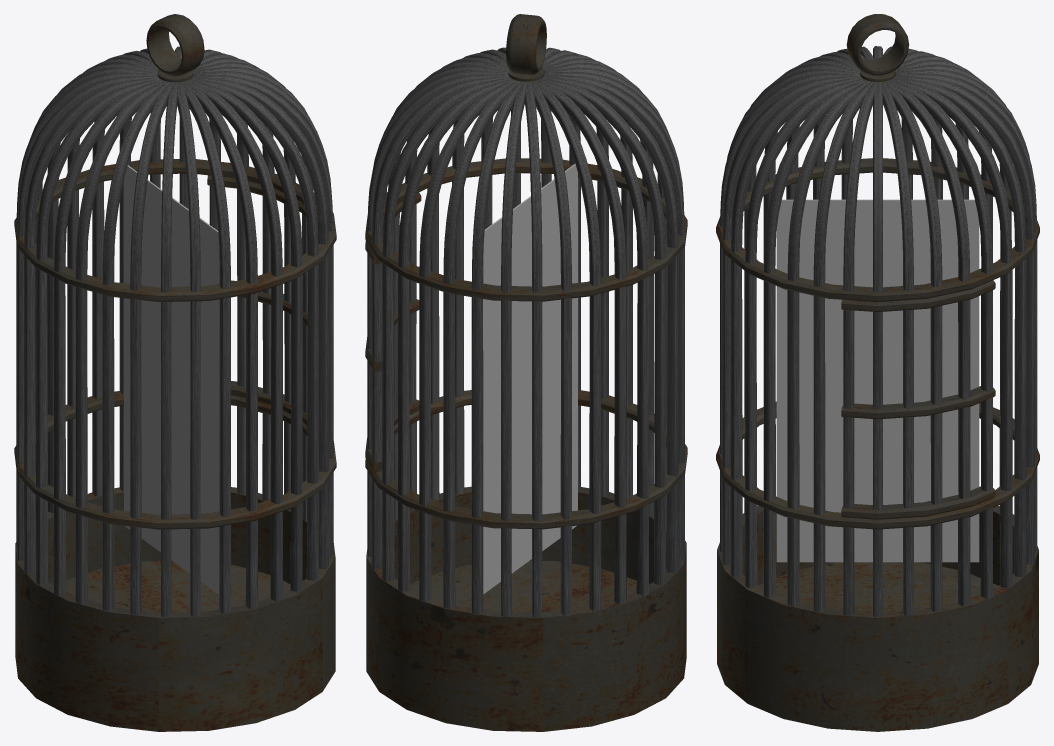
File: CageWithCard.fbx
The picture shows the model from 3 angles, left to right: view 1: azimuth 30°, elevation 25°; view 2: azimuth 150°, elevation 25°; view 3: azimuth 270°, elevation 25°; orthographic projection.
Parts seen in each view (by area): view 1: pCylinder3, pCube30, pPipe6; view 2: pCylinder3, pCube30, pPipe6; view 3: pCylinder3, pCube30, pPipe6.
Part boxes in pixels (left/top/right/bottom): pCylinder3: left=14, top=14, right=336, bottom=731; pCube30: left=124, top=165, right=219, bottom=594; pPipe6: left=207, top=175, right=307, bottom=425; pCylinder3: left=365, top=14, right=687, bottom=731; pCube30: left=483, top=163, right=577, bottom=594; pPipe6: left=365, top=192, right=421, bottom=472; pCylinder3: left=716, top=14, right=1039, bottom=731; pCube30: left=776, top=199, right=979, bottom=562; pPipe6: left=841, top=280, right=995, bottom=519.
Size of the model in its own units: 17.91 by 39.42 by 17.91.
